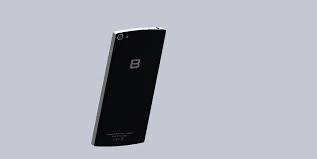bphone: (87, 25, 169, 150)
